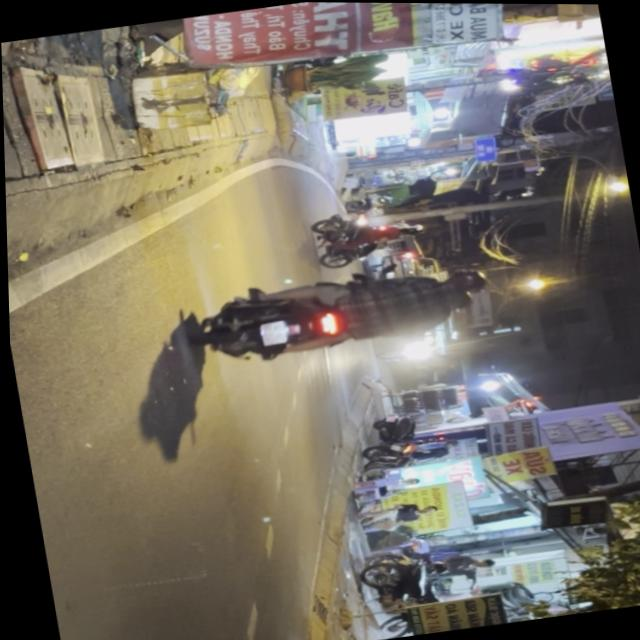helmet: (434, 261, 491, 300)
licenseplate: (180, 252, 500, 375)
nohelmet: (256, 318, 288, 346)
